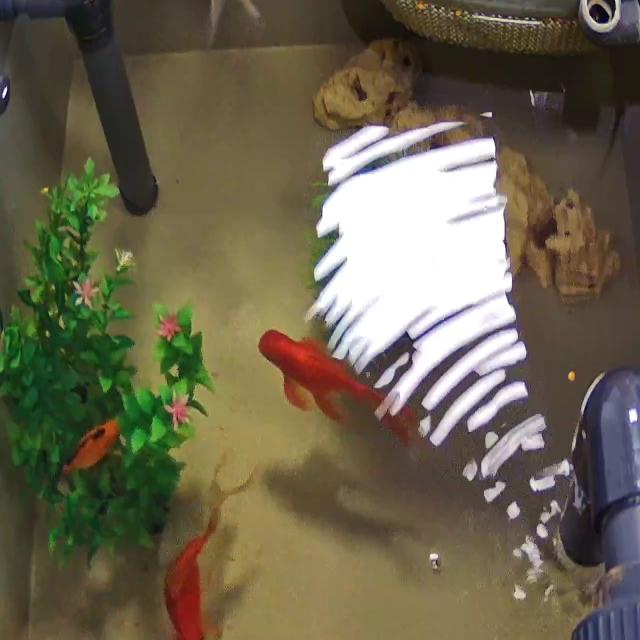fish: (258, 319, 424, 446), (164, 463, 238, 640), (156, 0, 256, 57), (60, 417, 121, 476)
